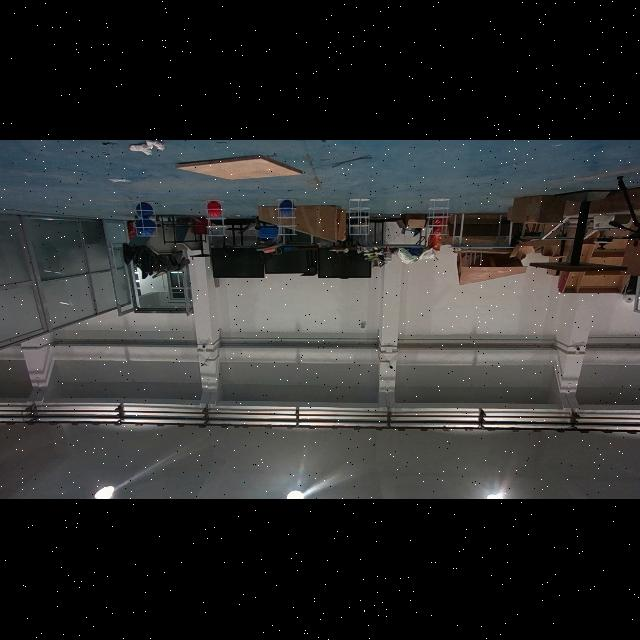B: (134, 219, 156, 235), (135, 202, 155, 218), (276, 201, 296, 215)
R: (206, 203, 224, 217)
S: (344, 196, 374, 238), (130, 199, 160, 239), (202, 198, 228, 240), (425, 198, 453, 236), (275, 196, 299, 238)
